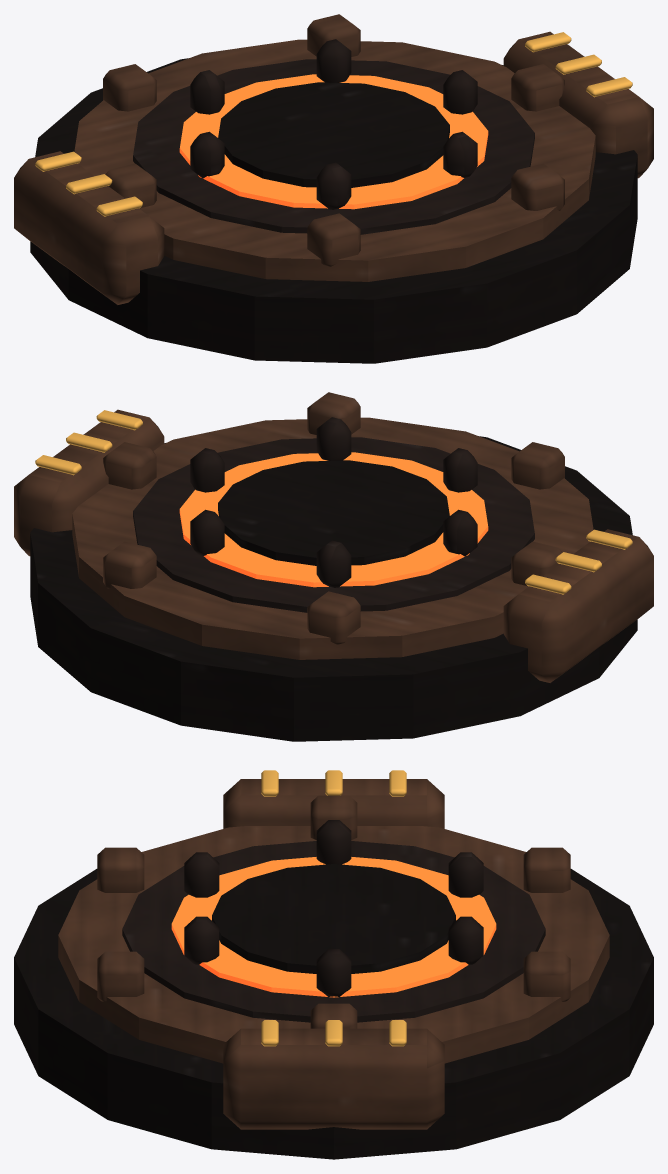
The model's file is flame_nozzle.glb.
The picture shows the model from 3 angles, top to bottom: view 1: azimuth 30°, elevation 25°; view 2: azimuth 150°, elevation 25°; view 3: azimuth 270°, elevation 25°; orthographic projection. The views are drawn at different scales.
Visible parts, largest first — view 1: flame_nozzle - Cast iron, flame_nozzle - Burnished nickel, flame_nozzle - Heat-treated steel, flame_nozzle - Firebrick indicator, flame_nozzle - Safety enamel.001; view 2: flame_nozzle - Cast iron, flame_nozzle - Burnished nickel, flame_nozzle - Heat-treated steel, flame_nozzle - Firebrick indicator, flame_nozzle - Safety enamel.001; view 3: flame_nozzle - Cast iron, flame_nozzle - Burnished nickel, flame_nozzle - Heat-treated steel, flame_nozzle - Firebrick indicator, flame_nozzle - Safety enamel.001.
Part boxes in pixels (x1=…): flame_nozzle - Cast iron: x1=30, y1=58, x2=637, y2=363; flame_nozzle - Burnished nickel: x1=14, y1=14, x2=653, y2=304; flame_nozzle - Heat-treated steel: x1=133, y1=39, x2=534, y2=234; flame_nozzle - Firebrick indicator: x1=179, y1=74, x2=488, y2=209; flame_nozzle - Safety enamel.001: x1=35, y1=32, x2=632, y2=216; flame_nozzle - Cast iron: x1=30, y1=436, x2=637, y2=741; flame_nozzle - Burnished nickel: x1=14, y1=392, x2=653, y2=682; flame_nozzle - Heat-treated steel: x1=133, y1=417, x2=534, y2=612; flame_nozzle - Firebrick indicator: x1=179, y1=452, x2=488, y2=587; flame_nozzle - Safety enamel.001: x1=35, y1=410, x2=632, y2=594; flame_nozzle - Cast iron: x1=14, y1=864, x2=653, y2=1159; flame_nozzle - Burnished nickel: x1=58, y1=779, x2=609, y2=1129; flame_nozzle - Heat-treated steel: x1=122, y1=820, x2=545, y2=1022; flame_nozzle - Firebrick indicator: x1=171, y1=857, x2=496, y2=997; flame_nozzle - Safety enamel.001: x1=261, y1=770, x2=406, y2=1046.
Size of the model in its own units: 1.35 by 0.308 by 1.3.
Materials: 5 (3 with a texture image).
